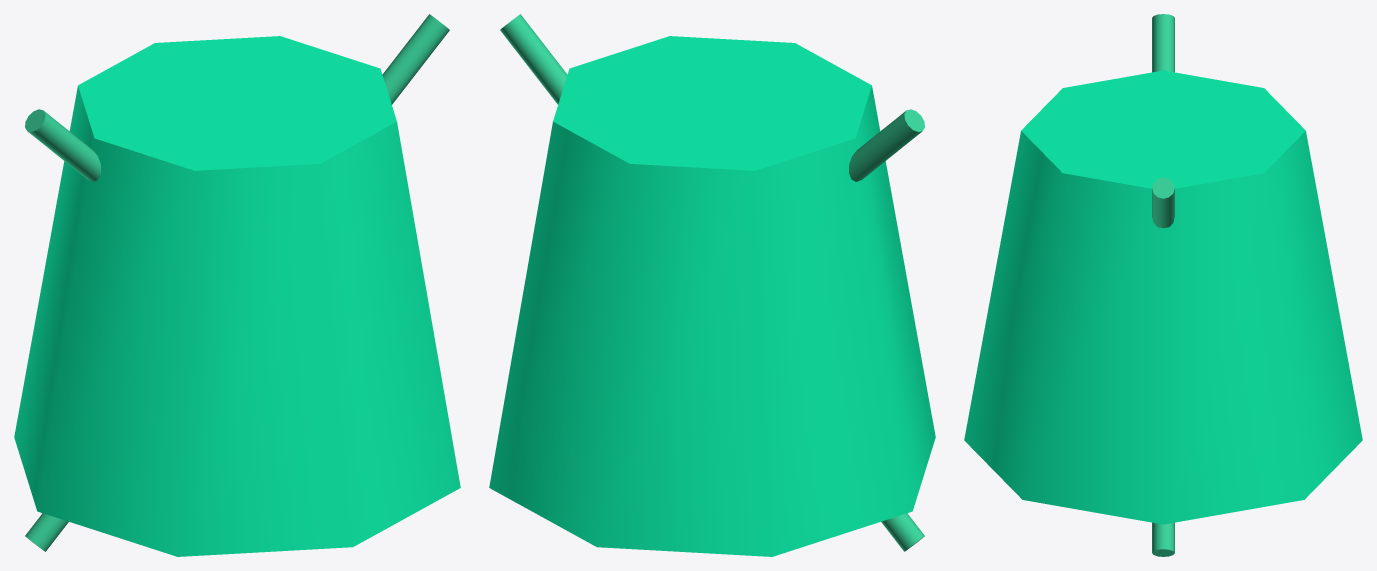
The model's file is boxem_architectural_bim_matrix.glb.
3 views of the same model, side by side, from view 1: azimuth 30°, elevation 25°; view 2: azimuth 150°, elevation 25°; view 3: azimuth 270°, elevation 25° (orthographic). The views are drawn at different scales.
Parts seen in each view (by area): view 1: ArchitecturalBIMMatrix; view 2: ArchitecturalBIMMatrix; view 3: ArchitecturalBIMMatrix.
Part boxes in pixels (left/top/right/bottom): ArchitecturalBIMMatrix: left=14, top=14, right=460, bottom=556; ArchitecturalBIMMatrix: left=489, top=14, right=935, bottom=556; ArchitecturalBIMMatrix: left=964, top=14, right=1362, bottom=556.
Size of the model in its own units: 1.47 by 1.47 by 1.4.
